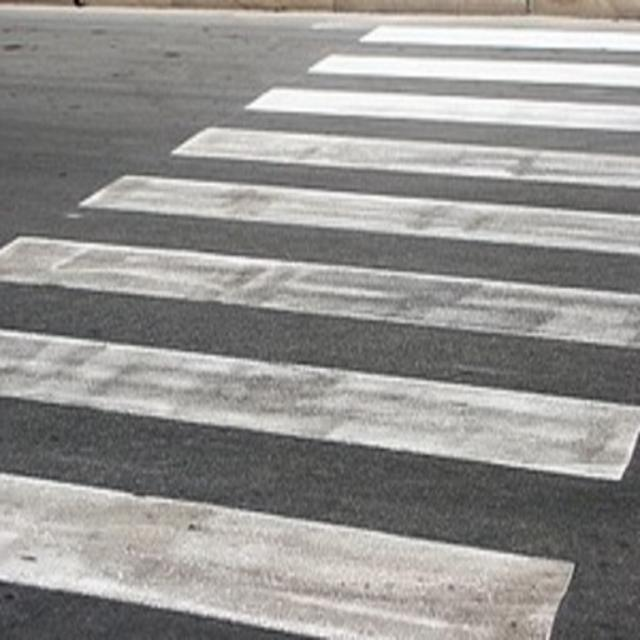sidewalk: (0, 13, 640, 640)
